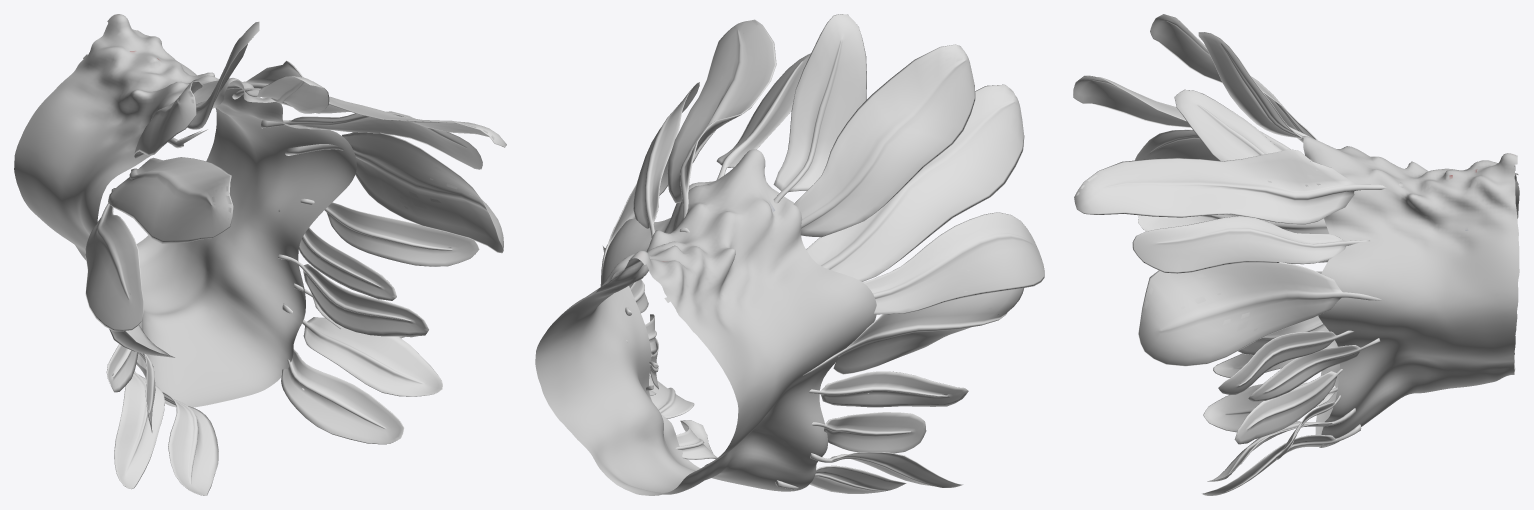
The model's file is bodyPart02.gltf.
3 views of the same model, side by side, from view 1: azimuth 30°, elevation 25°; view 2: azimuth 150°, elevation 25°; view 3: azimuth 270°, elevation 25° (orthographic). The views are drawn at different scales.
Visible parts, largest first — view 1: bodyPart02; view 2: bodyPart02; view 3: bodyPart02.
Boxes of the visible parts, box(x1,y1,x2,y2) form: bodyPart02: box(14, 14, 506, 495); bodyPart02: box(535, 14, 1044, 495); bodyPart02: box(1073, 14, 1519, 495).
Bounding box in the file's own units: 1.51 × 1.65 × 1.61.
Materials: 2 (1 with a texture image).
